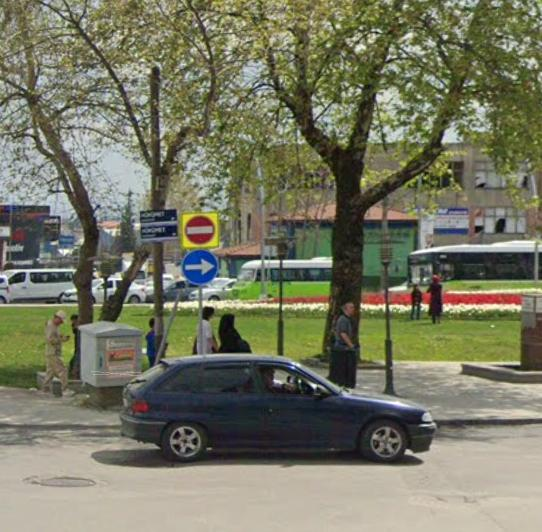turnright: (182, 249, 218, 283)
